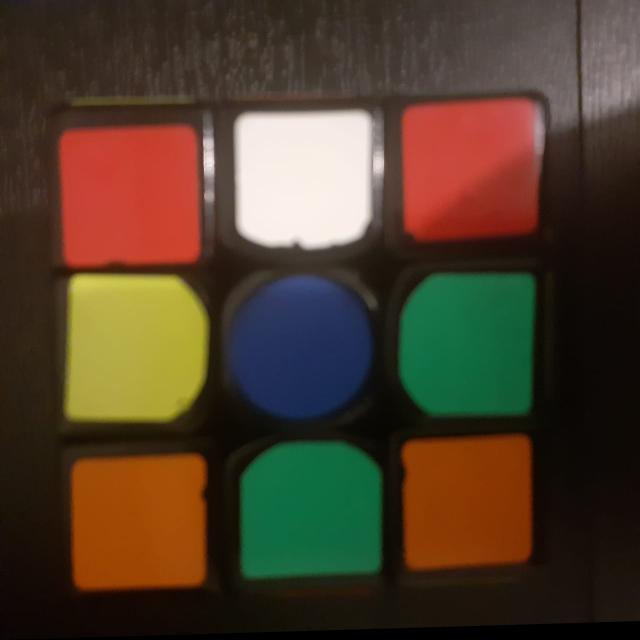Blue: (222, 271, 374, 439)
Green: (229, 441, 381, 597), (394, 269, 534, 433)
Orange: (70, 445, 216, 600), (391, 436, 542, 576)
Red: (48, 116, 210, 274), (391, 101, 547, 251)
White: (227, 105, 377, 259)
Yellow: (57, 275, 207, 429)
